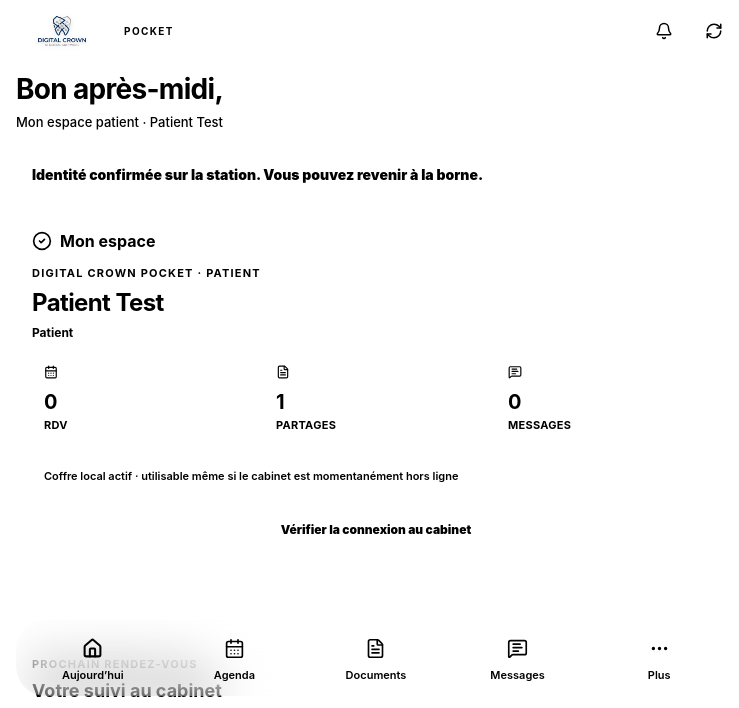
Scenario: LOT04 × Pocket patient — separate Station authorization from wallet share IDs › fails closed when Station claim returns no canonical session identity
The image size is (739, 708).
Click the button "Documents" at (376, 658), box [305,631,447,685]
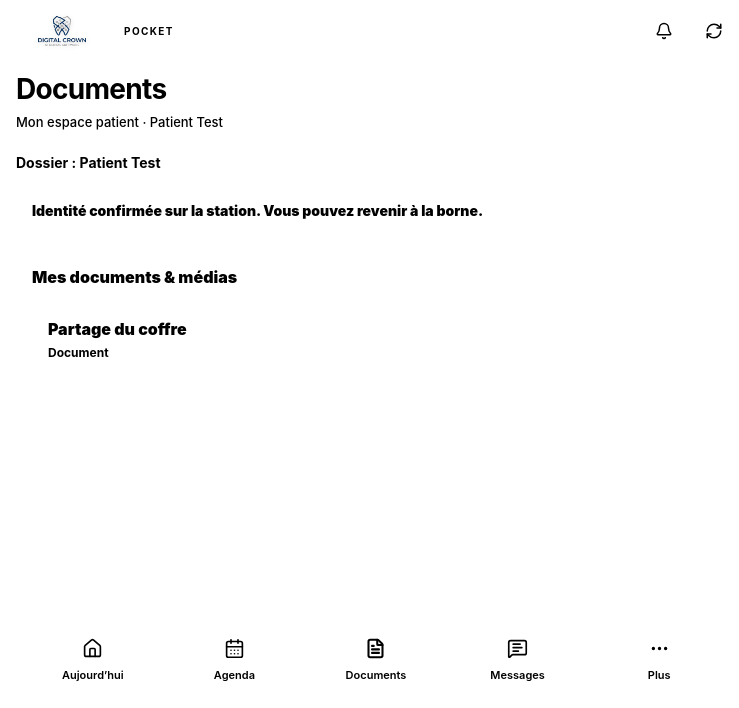
Now the text "Partage du coffre" is shown, box [48,319,187,339]
